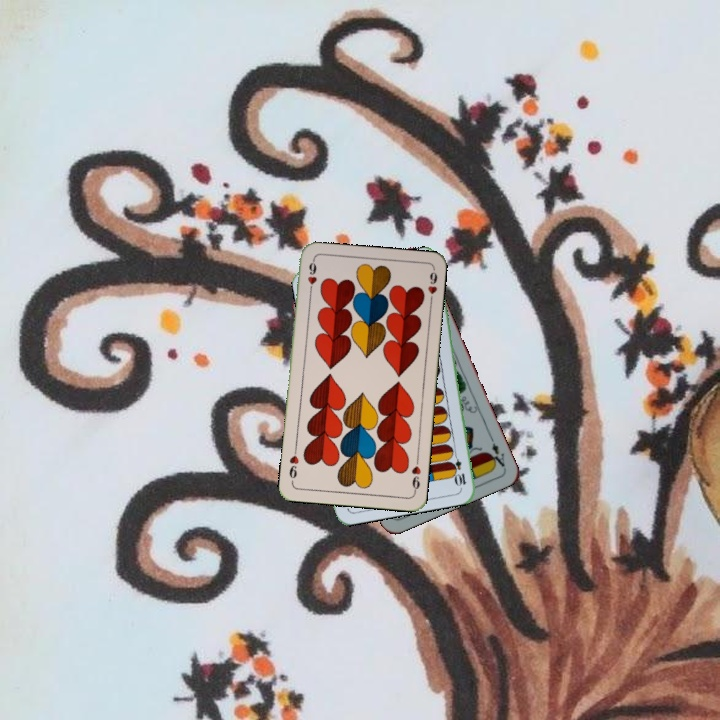E10: (449, 448, 468, 489)
EA: (485, 432, 507, 470)
H9: (303, 256, 319, 297), (408, 455, 423, 495)
